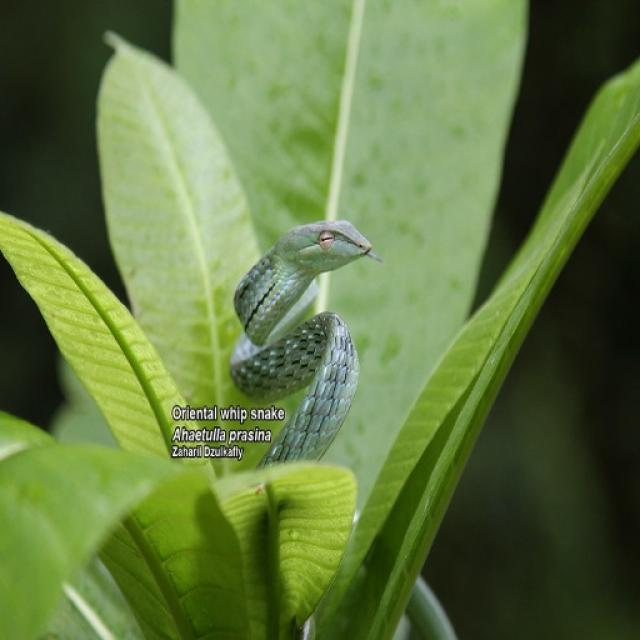snake: (206, 202, 384, 470)
